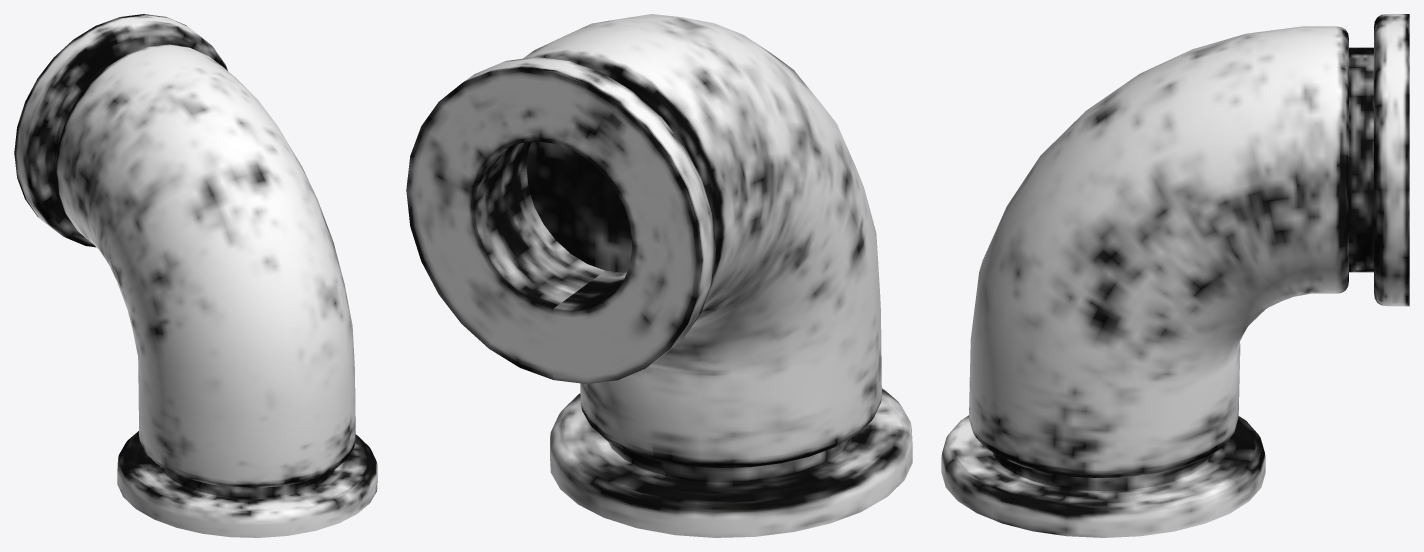
The model's file is SM_Pipe_corner_02.fbx.
3 views of the same model, side by side, from view 1: azimuth 30°, elevation 25°; view 2: azimuth 150°, elevation 25°; view 3: azimuth 270°, elevation 25° (orthographic). The views are drawn at different scales.
Parts seen in each view (by area): view 1: SM_Pipe_corner_02; view 2: SM_Pipe_corner_02; view 3: SM_Pipe_corner_02.
Boxes of the visible parts, box(x1,y1,x2,y2) form: SM_Pipe_corner_02: box(14, 14, 377, 537); SM_Pipe_corner_02: box(406, 14, 912, 537); SM_Pipe_corner_02: box(941, 14, 1409, 537).
Size of the model in its own units: 23.29 by 35.23 by 36.95.
Materials: 1 (1 with a texture image).
